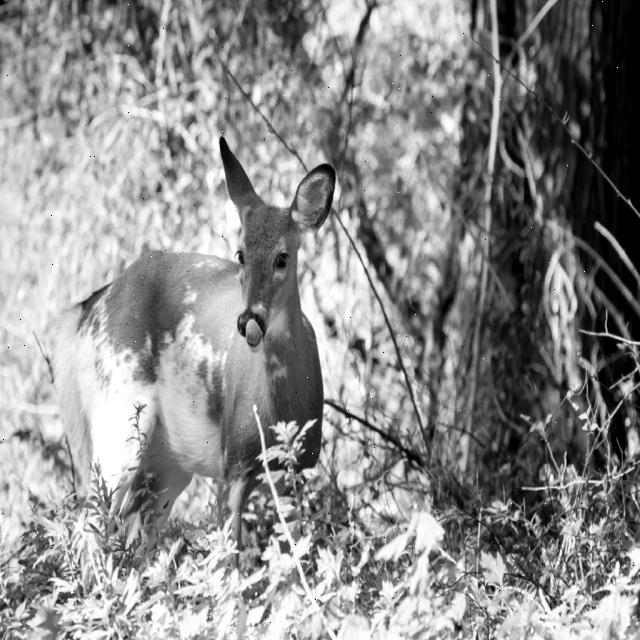deer: (176, 132, 338, 370)
